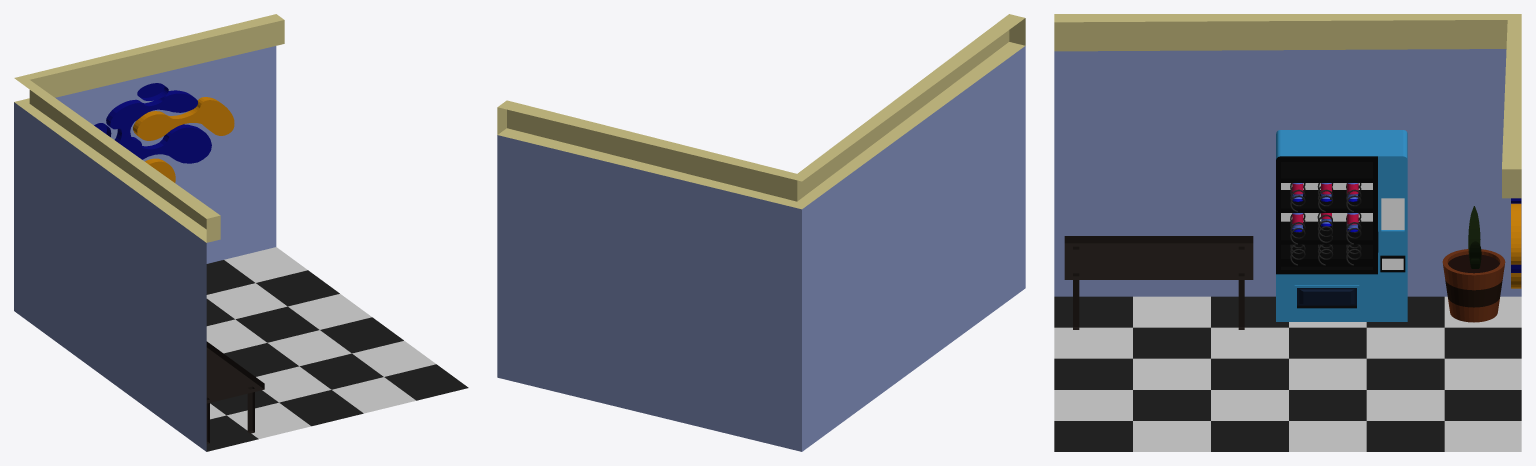
File: AnimatedObject0050.obj
The picture shows the model from 3 angles, left to right: view 1: azimuth 30°, elevation 25°; view 2: azimuth 150°, elevation 25°; view 3: azimuth 270°, elevation 25°; orthographic projection. The views are drawn at different scales.
Parts seen in each view (by area): view 1: ruangan_Cube.003, meja_Cube.004, logo_Circle.005, logo.001_Circle.001, logo.005_Circle.002; view 2: ruangan_Cube.003; view 3: ruangan_Cube.003, vending_machine_Cube.001, meja_Cube.004, pot_bunga_Cylinder, per_second\_Spiral.010, Plane.007, logo_Circle.005.
Part boxes in pixels (x1,y1,x2,y2): ruangan_Cube.003: [14, 14, 468, 451]; meja_Cube.004: [206, 341, 264, 444]; logo_Circle.005: [133, 97, 234, 140]; logo.001_Circle.001: [115, 124, 211, 163]; logo.005_Circle.002: [106, 90, 197, 132]; ruangan_Cube.003: [497, 14, 1025, 451]; ruangan_Cube.003: [1054, 14, 1521, 451]; vending_machine_Cube.001: [1276, 130, 1407, 321]; meja_Cube.004: [1064, 236, 1253, 329]; pot_bunga_Cylinder: [1442, 249, 1505, 322]; per_second\_Spiral.010: [1290, 183, 1361, 265]; Plane.007: [1468, 206, 1481, 268]; logo_Circle.005: [1511, 203, 1521, 264].
Size of the model in its own units: 11.73 by 9.95 by 14.9.
